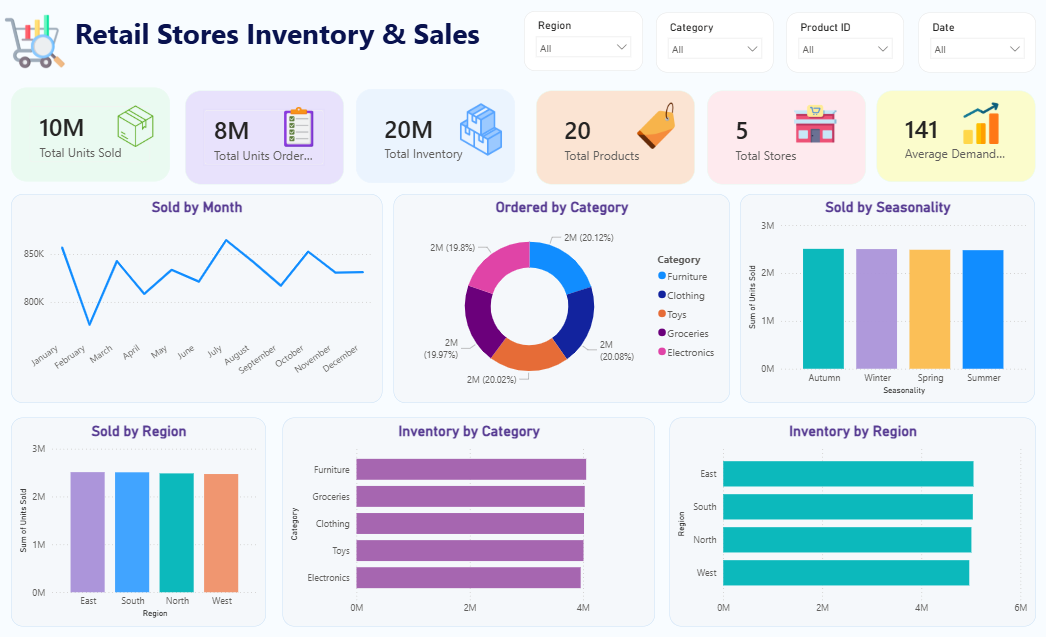

What the dashboard file says about the page in this screenshot:
{"tool":"powerbi","page":{"name":"Page 1","canvas":[1400,850],"ordinal":0},"visuals":[{"type":"textbox","box":[95,13.3,565,76.7],"z":0},{"type":"image","box":[0,13.3,95,85],"z":1000},{"type":"slicer","fields":{"Values":["retail_store_inventory.Region"]},"box":[700,16.7,158.3,80],"z":2000},{"type":"slicer","fields":{"Values":["retail_store_inventory.Date"]},"box":[1225,18.3,156.7,80],"z":3000},{"type":"slicer","fields":{"Values":["retail_store_inventory.Category"]},"box":[875,18.3,156.7,80],"z":4000},{"type":"slicer","fields":{"Values":["retail_store_inventory.Product ID"]},"box":[1050,18.3,156.7,80],"z":5000},{"type":"cardVisual","fields":{"Data":["retail_store_inventory.Total Units Sold"]},"box":[15,118.3,211.7,125],"z":6000},{"type":"image","box":[135,141.7,91.7,55],"z":7000},{"type":"cardVisual","fields":{"Data":["retail_store_inventory.Total Products"]},"box":[715,121.7,211.7,125],"z":8000},{"type":"cardVisual","fields":{"Data":["retail_store_inventory.Total Inventory"]},"box":[476.7,120,211.7,125],"z":9000},{"type":"cardVisual","fields":{"Data":["retail_store_inventory.Total Units Ordered"]},"box":[248.3,121.7,211.7,125],"z":10000},{"type":"cardVisual","fields":{"Data":["retail_store_inventory.Average Demand Forecast"]},"box":[1170,121.7,211.7,121.7],"z":11000},{"type":"cardVisual","fields":{"Data":["retail_store_inventory.Total Stores"]},"box":[943.3,121.7,211.7,125],"z":12000},{"type":"image","box":[366.7,141.7,66.7,56.7],"z":13000},{"type":"image","box":[835,138.3,80,61.7],"z":14000},{"type":"image","box":[595,138.3,93.3,71.7],"z":15000},{"type":"image","box":[1048.3,138.3,80,56.7],"z":16000},{"type":"image","box":[1276.7,138.3,66.7,55],"z":17000},{"type":"lineChart","title":" Sold by Month","fields":{"Category":["retail_store_inventory.Date.Variation.Date Hierarchy.Month"],"Y":["Sum(retail_store_inventory.Units Sold)"]},"box":[15,260,495,278.3],"z":18000},{"type":"donutChart","title":"Ordered by Category","fields":{"Category":["retail_store_inventory.Category"],"Y":["Sum(retail_store_inventory.Units Ordered)"]},"box":[526.7,260,448.3,278.3],"z":19000},{"type":"clusteredBarChart","title":" Inventory  by Region","fields":{"Category":["retail_store_inventory.Region"],"Y":["Sum(retail_store_inventory.Inventory Level)"]},"box":[893.3,558.3,488.3,278.3],"z":20000},{"type":"clusteredBarChart","title":" Inventory  by Category","fields":{"Y":["Sum(retail_store_inventory.Inventory Level)"],"Category":["retail_store_inventory.Category"]},"box":[378.3,558.3,496.7,278.3],"z":21000},{"type":"columnChart","title":"Sold by Seasonality","fields":{"Category":["retail_store_inventory.Seasonality"],"Y":["Sum(retail_store_inventory.Units Sold)"]},"box":[988.3,260,393.3,278.3],"z":22000},{"type":"columnChart","title":"Sold by Region","fields":{"Category":["retail_store_inventory.Region"],"Y":["Sum(retail_store_inventory.Units Sold)"]},"box":[15,558.3,340,278.3],"z":23000}]}

Visuals, with their boxes in screenshot pixels (x1, y1, x2, y2), scaled from the page's 1400x850 canvas onto the 1046x637 screenshot:
textbox: Rect(71, 10, 493, 67)
image: Rect(0, 10, 71, 74)
slicer - retail_store_inventory.Region: Rect(523, 13, 641, 72)
slicer - retail_store_inventory.Date: Rect(915, 14, 1032, 74)
slicer - retail_store_inventory.Category: Rect(654, 14, 771, 74)
slicer - retail_store_inventory.Product ID: Rect(784, 14, 902, 74)
cardVisual - retail_store_inventory.Total Units Sold: Rect(11, 89, 169, 182)
image: Rect(101, 106, 169, 147)
cardVisual - retail_store_inventory.Total Products: Rect(534, 91, 692, 185)
cardVisual - retail_store_inventory.Total Inventory: Rect(356, 90, 514, 184)
cardVisual - retail_store_inventory.Total Units Ordered: Rect(186, 91, 344, 185)
cardVisual - retail_store_inventory.Average Demand Forecast: Rect(874, 91, 1032, 182)
cardVisual - retail_store_inventory.Total Stores: Rect(705, 91, 863, 185)
image: Rect(274, 106, 324, 149)
image: Rect(624, 104, 684, 150)
image: Rect(445, 104, 514, 157)
image: Rect(783, 104, 843, 146)
image: Rect(954, 104, 1004, 145)
" Sold by Month" lineChart: Rect(11, 195, 381, 403)
"Ordered by Category" donutChart: Rect(394, 195, 728, 403)
" Inventory  by Region" clusteredBarChart: Rect(667, 418, 1032, 627)
" Inventory  by Category" clusteredBarChart: Rect(283, 418, 654, 627)
"Sold by Seasonality" columnChart: Rect(738, 195, 1032, 403)
"Sold by Region" columnChart: Rect(11, 418, 265, 627)
